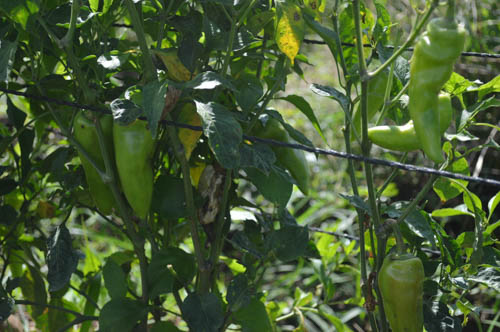ChiliPepper: (363, 95, 454, 157), (261, 116, 316, 198), (75, 113, 118, 217), (412, 24, 443, 162), (115, 121, 156, 217), (380, 254, 430, 332)
